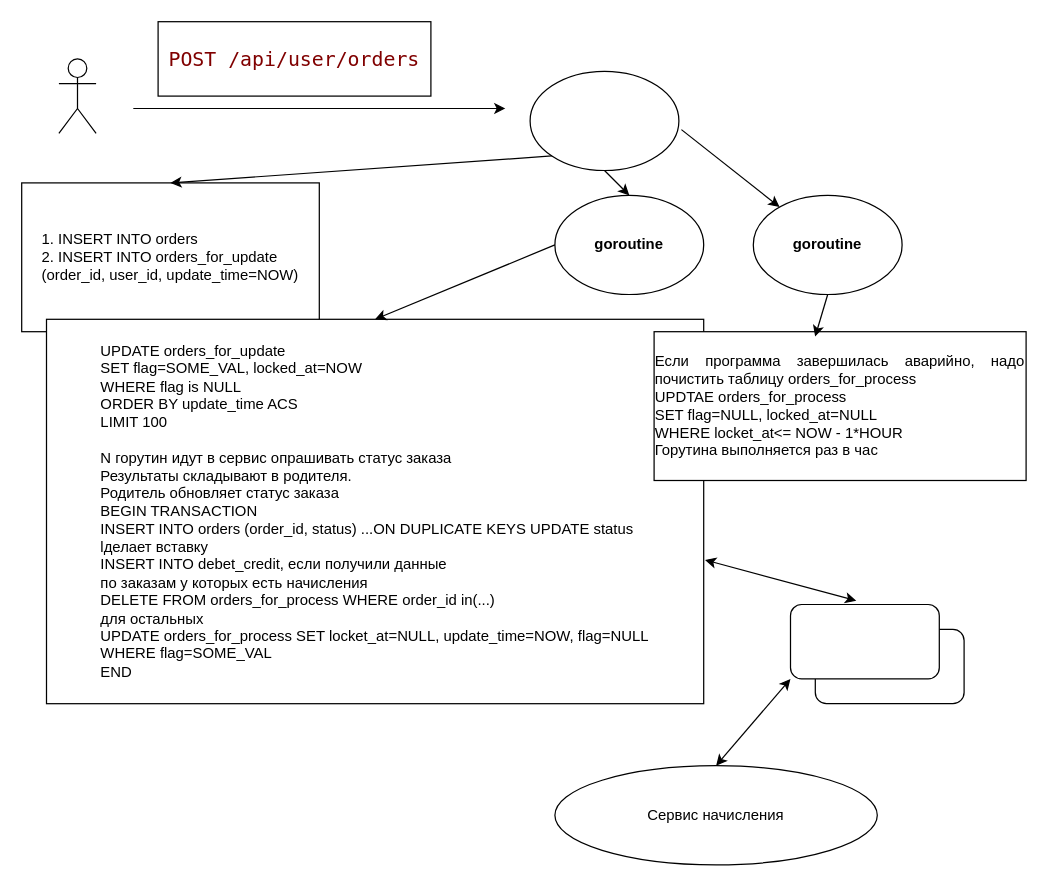
The diagram is 1048 pixels wide and 887 high, and some of its shapes have lost their labels. The centre of each missing label's shape, as x and y in pixels:
Actor: point 77,95
HTTP Server: point 604,120
worker: point 864,641
